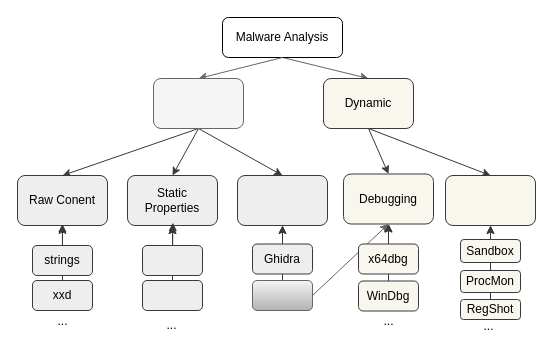
The diagram is 553 pixels wide and 354 high, and some of its shapes have lost their labels. The centre of each missing label's shape, as x and y in pixels:
"Detonation": Behavioural analysis: pixel 490 200
CFF Explorer: pixel 172 295
Disassembly: pixel 282 200
IDA: pixel 282 295
PeStudio: pixel 172 260
Static: pixel 198 103
